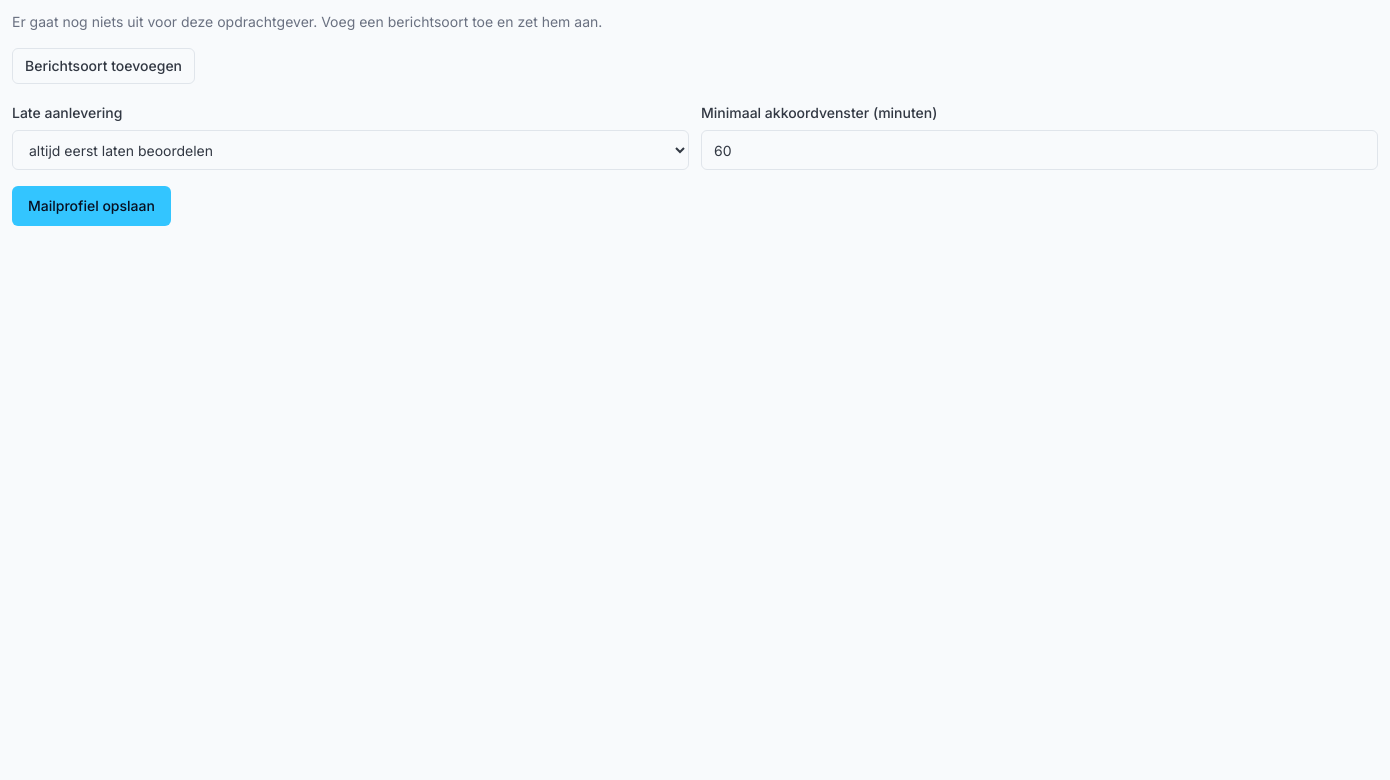
Test: the mail profile on screen › adds a message type that starts switched off
Click the button "Berichtsoort toevoegen" at (104, 66), box left=12, top=48, right=195, bottom=84
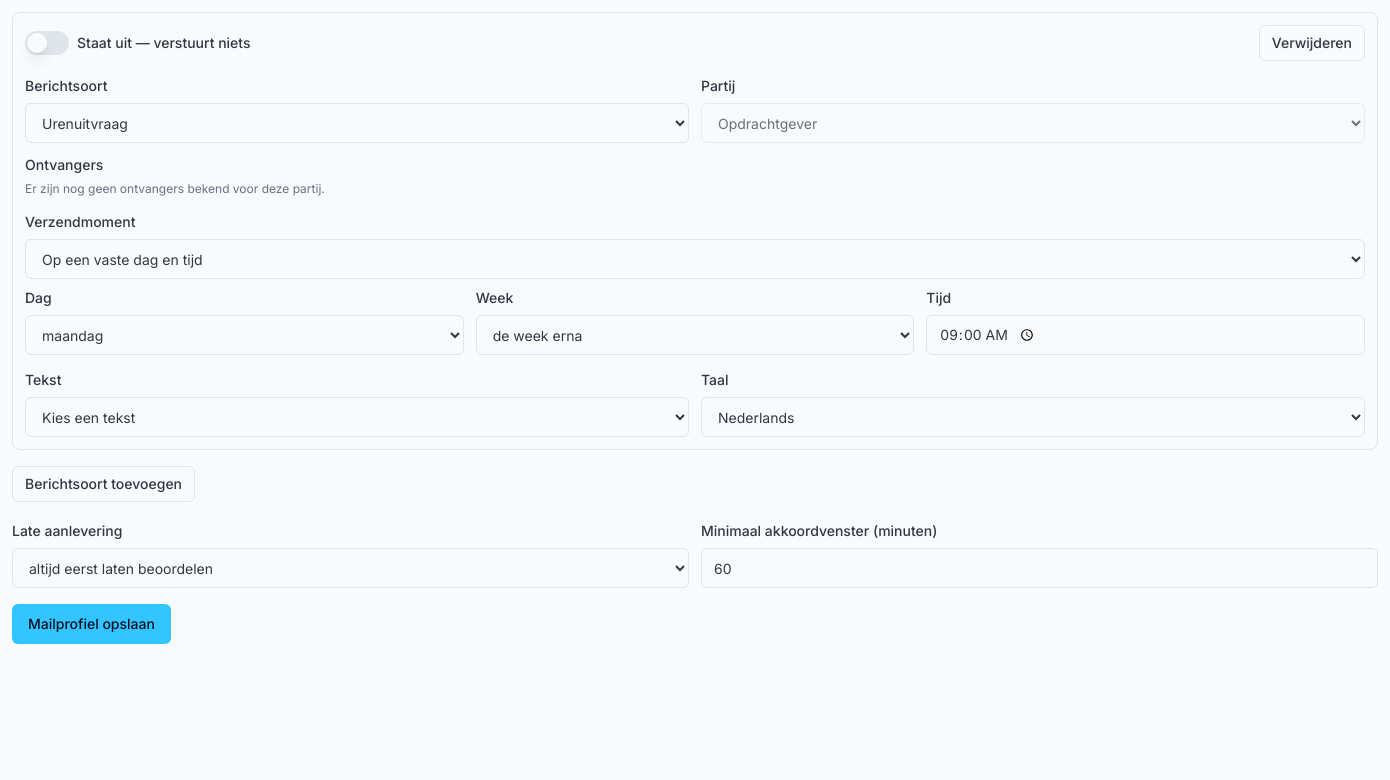
Expected: the text "Staat uit — verstuurt niets" is shown, left=77, top=36, right=250, bottom=50
